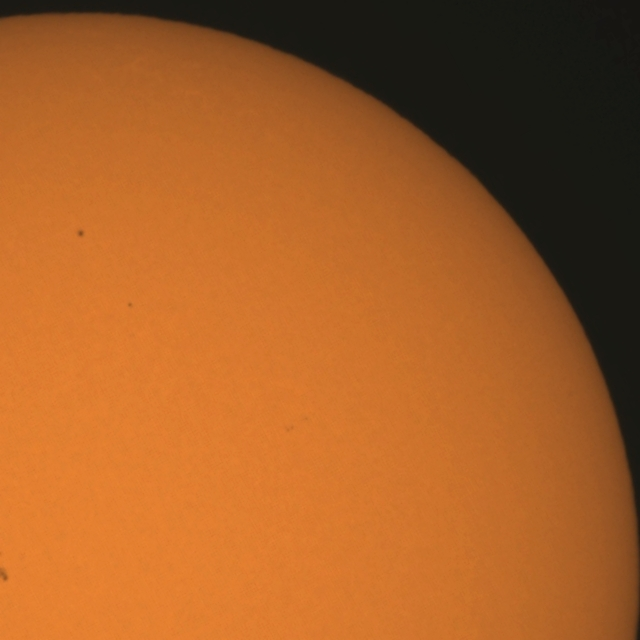sunspot: (0, 565, 10, 584), (284, 424, 295, 434), (76, 228, 85, 239), (126, 301, 134, 309)
